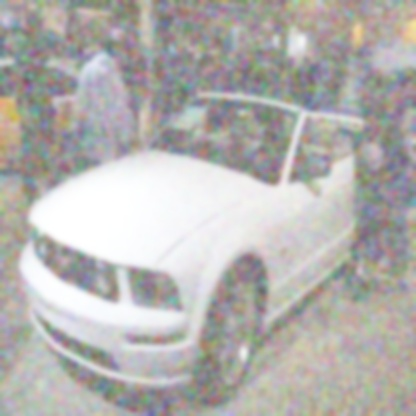Vehicle: (20, 95, 368, 402)
